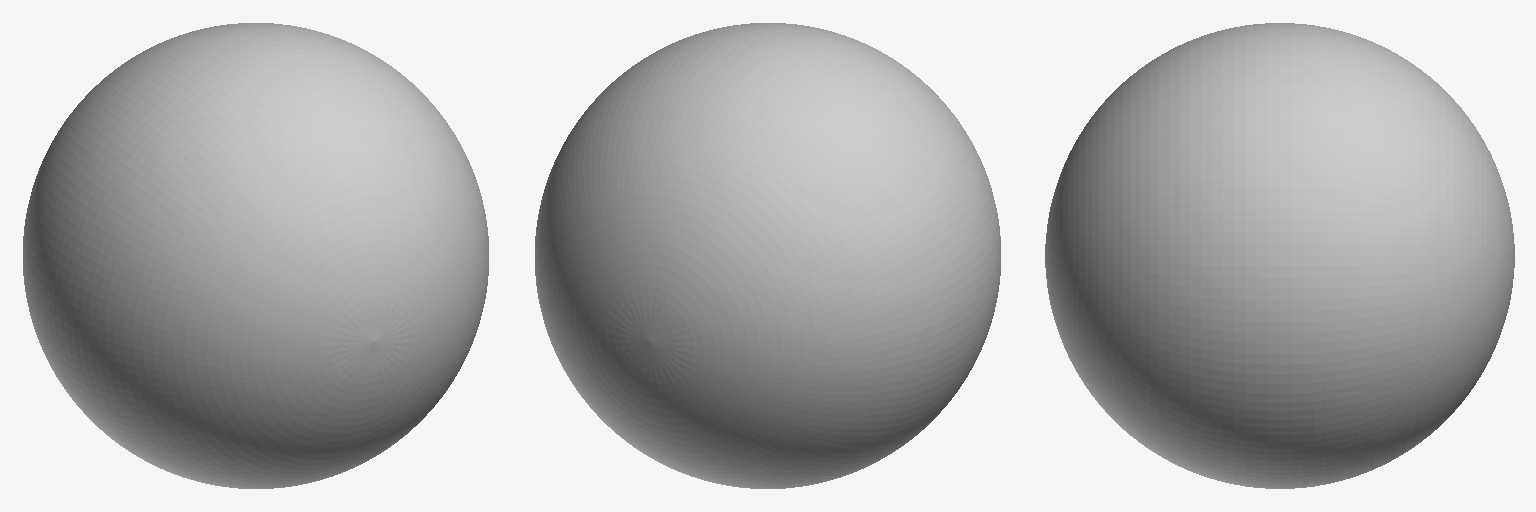
Rendered from world.obj.
The picture shows the model from 3 angles: view 1: azimuth 30°, elevation 25°; view 2: azimuth 150°, elevation 25°; view 3: azimuth 270°, elevation 25°; orthographic projection.
Visible parts, largest first — view 1: Sphere.001; view 2: Sphere.001; view 3: Sphere.001.
Part boxes in pixels (x1,y1,x2,y2): Sphere.001: (23,23,488,488); Sphere.001: (535,23,1000,488); Sphere.001: (1045,23,1514,488).
Bounding box in the file's own units: 0.9892 × 0.9892 × 0.9996.